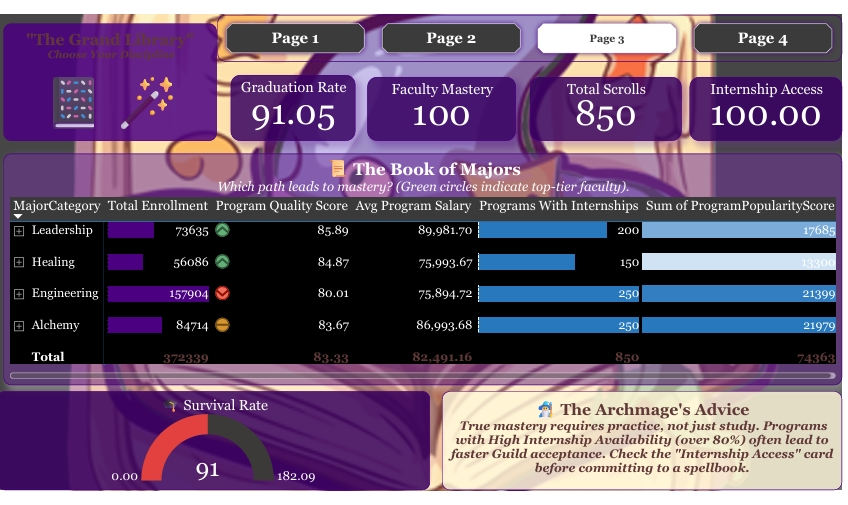

Layout of this report page (visuals, bound fields, positions):
{"tool":"powerbi","page":{"name":"Page 3","canvas":[1280,720],"ordinal":2},"visuals":[{"type":"card","title":"Total Scrolls","fields":{"Values":["College_Profiles.Total Programs"]},"box":[807.1,94.3,230,97.1],"z":0},{"type":"card","title":"Graduation Rate","fields":{"Values":["College_Profiles.Avg Graduation Rate"]},"box":[354.3,91.4,188.6,100],"z":1000},{"type":"card","title":"Faculty Mastery","fields":{"Values":["College_Profiles.Internship Percentage"]},"box":[561.4,94.3,224.3,97.1],"z":2000},{"type":"card","title":"Internship Access","fields":{"Values":["College_Profiles.Internship Percentage"]},"box":[1048.6,94.3,231.4,97.1],"z":3000},{"type":"pivotTable","title":"📜 The Book of Majors","fields":{"Rows":["Programs_Majors.MajorCategory","Programs_Majors.ProgramDifficulty"],"Values":["College_Profiles.Total Enrollment","College_Profiles.Program Quality Score","College_Profiles.Avg Program Salary","College_Profiles.Programs With Internships","Sum(Programs_Majors.ProgramPopularityScore)"]},"box":[10,210,1270,351.4],"z":4000},{"type":"gauge","title":"🎓 Survival Rate","fields":{"Y":["College_Profiles.Avg Graduation Rate"]},"box":[0,570,655.7,150],"z":5000},{"type":"textbox","box":[10,12.9,322.9,178.6],"z":6000},{"type":"textbox","box":[674.3,570,605.7,150],"z":7000},{"type":"pageNavigator","box":[334.3,0,945.7,71.4],"z":8000},{"type":"textbox","box":[10,71.4,324.3,120],"z":9000}]}

Visuals, with their boxes on the page's 1280x720 design canvas (x1, y1, x2, y2). These are canvas units, not pixel positions in the 848x505 screenshot, which may show the page scaled, cropped or inside an application window:
"Total Scrolls" card: left=807, top=94, right=1037, bottom=191
"Graduation Rate" card: left=354, top=91, right=543, bottom=191
"Faculty Mastery" card: left=561, top=94, right=786, bottom=191
"Internship Access" card: left=1049, top=94, right=1280, bottom=191
"📜 The Book of Majors" pivotTable: left=10, top=210, right=1280, bottom=561
"🎓 Survival Rate" gauge: left=0, top=570, right=656, bottom=720
textbox: left=10, top=13, right=333, bottom=192
textbox: left=674, top=570, right=1280, bottom=720
pageNavigator: left=334, top=0, right=1280, bottom=71
textbox: left=10, top=71, right=334, bottom=191
